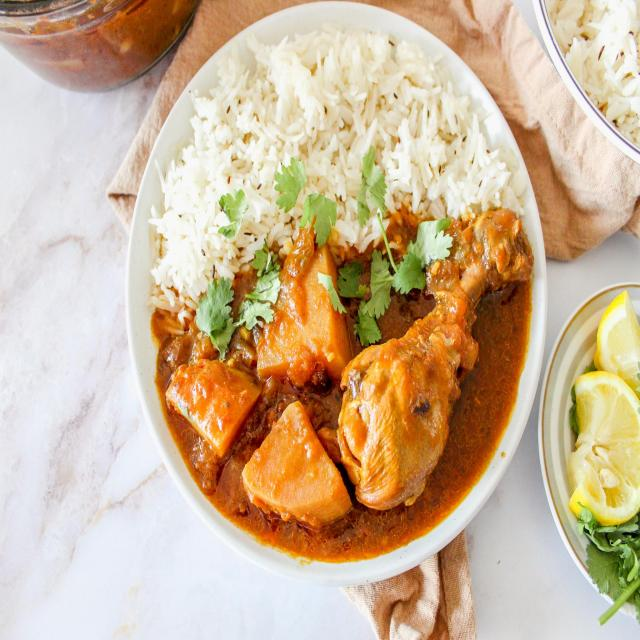chicken: (163, 295, 497, 525)
rice: (158, 35, 514, 273)
